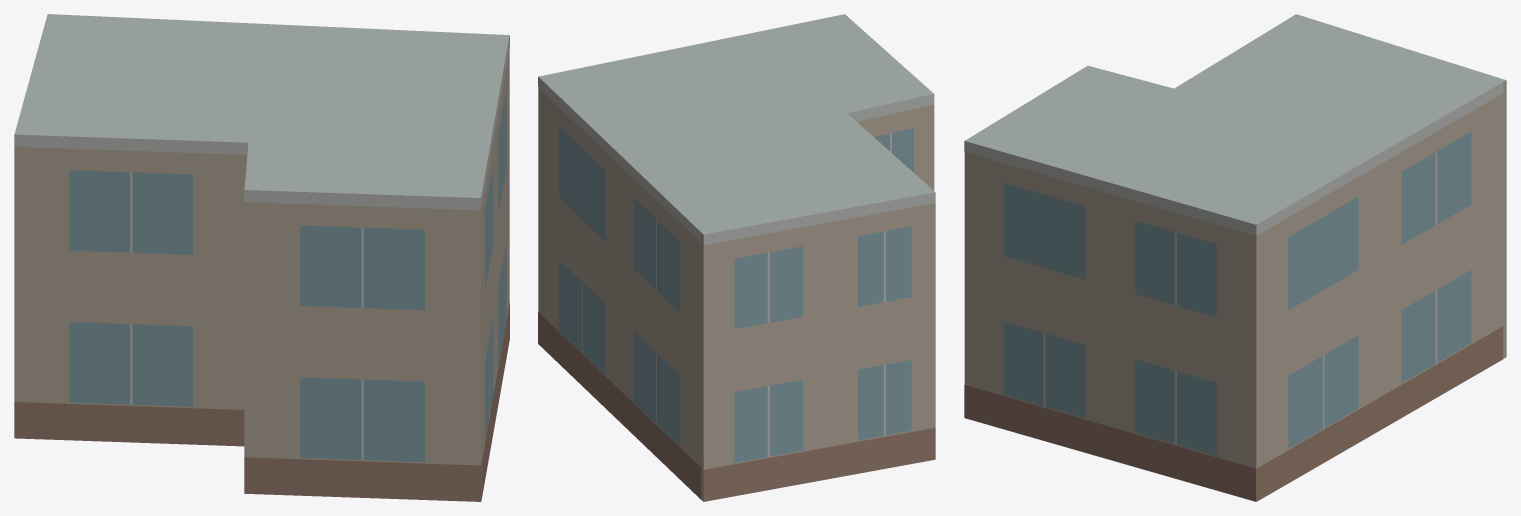
The model's file is survey-upis-32570090.glb.
3 renders of one model, left to right at view 1: azimuth 30°, elevation 25°; view 2: azimuth 150°, elevation 25°; view 3: azimuth 270°, elevation 25°, orthographic. The views are drawn at different scales.
Visible parts, largest first — view 1: survey-upis-32570090.tmp; view 2: survey-upis-32570090.tmp; view 3: survey-upis-32570090.tmp.
Part boxes in pixels (bbox=[...]): survey-upis-32570090.tmp: bbox=[14, 14, 509, 501]; survey-upis-32570090.tmp: bbox=[538, 14, 935, 501]; survey-upis-32570090.tmp: bbox=[964, 14, 1506, 501].
Bounding box in the file's own units: 9.96 × 6.1 × 10.82.
